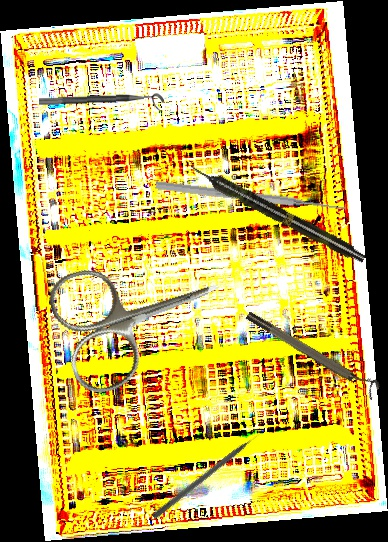Fixation Ring: (244, 303, 382, 401), (38, 92, 165, 117)
Handpiece: (186, 159, 369, 267)
Iris Scissors: (42, 228, 240, 401)
Pusher: (151, 427, 268, 521), (154, 179, 349, 215)
